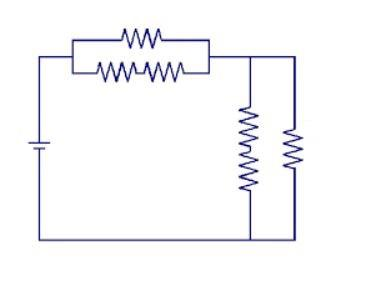resistor: (97, 22, 175, 50), (272, 115, 305, 179)
